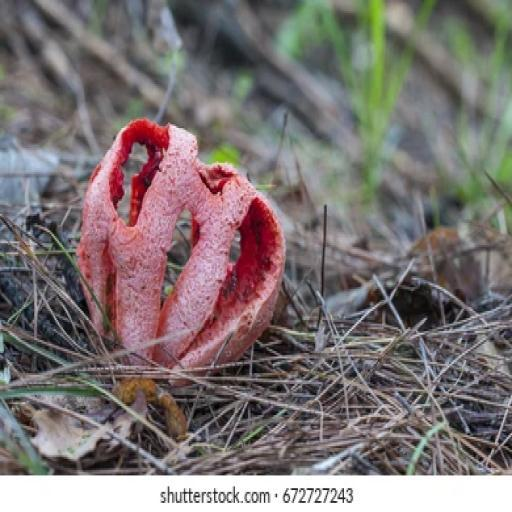mushroom: (70, 110, 292, 385)
